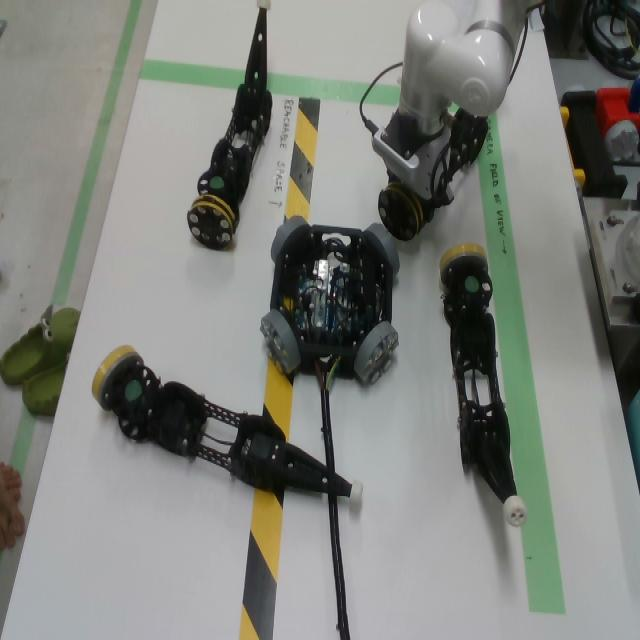body: (270, 225, 393, 380)
body_connector: (354, 321, 399, 385), (260, 309, 301, 375), (270, 216, 310, 264), (364, 223, 400, 273)
gripper: (385, 127, 455, 223)
leg: (91, 345, 362, 512), (439, 243, 528, 528), (186, 0, 273, 249), (447, 108, 489, 184), (378, 181, 425, 243)
leg_connector: (92, 345, 144, 412), (378, 183, 424, 241), (187, 195, 236, 249), (439, 243, 488, 287)
leg_marker: (125, 380, 142, 400), (466, 276, 479, 292), (210, 177, 224, 188)
